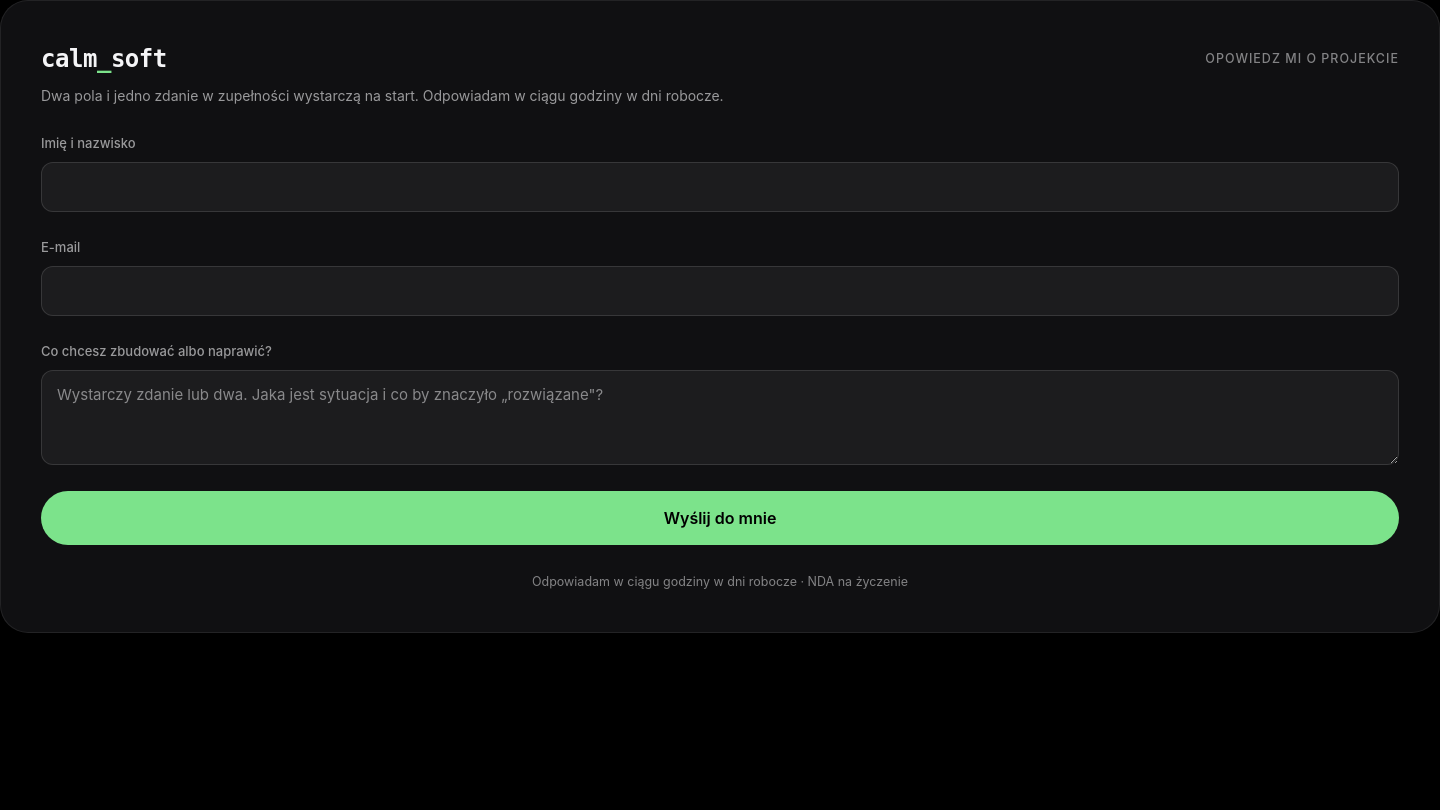
Test: ContactForm step 1 (SPEC §8, §14.2) › blocks submit on empty fields and shows per-field validation messages, focusing the first invalid field
Step 1. Click the button "Wyślij do mnie" → x=720, y=518, box [41,491,1399,545]
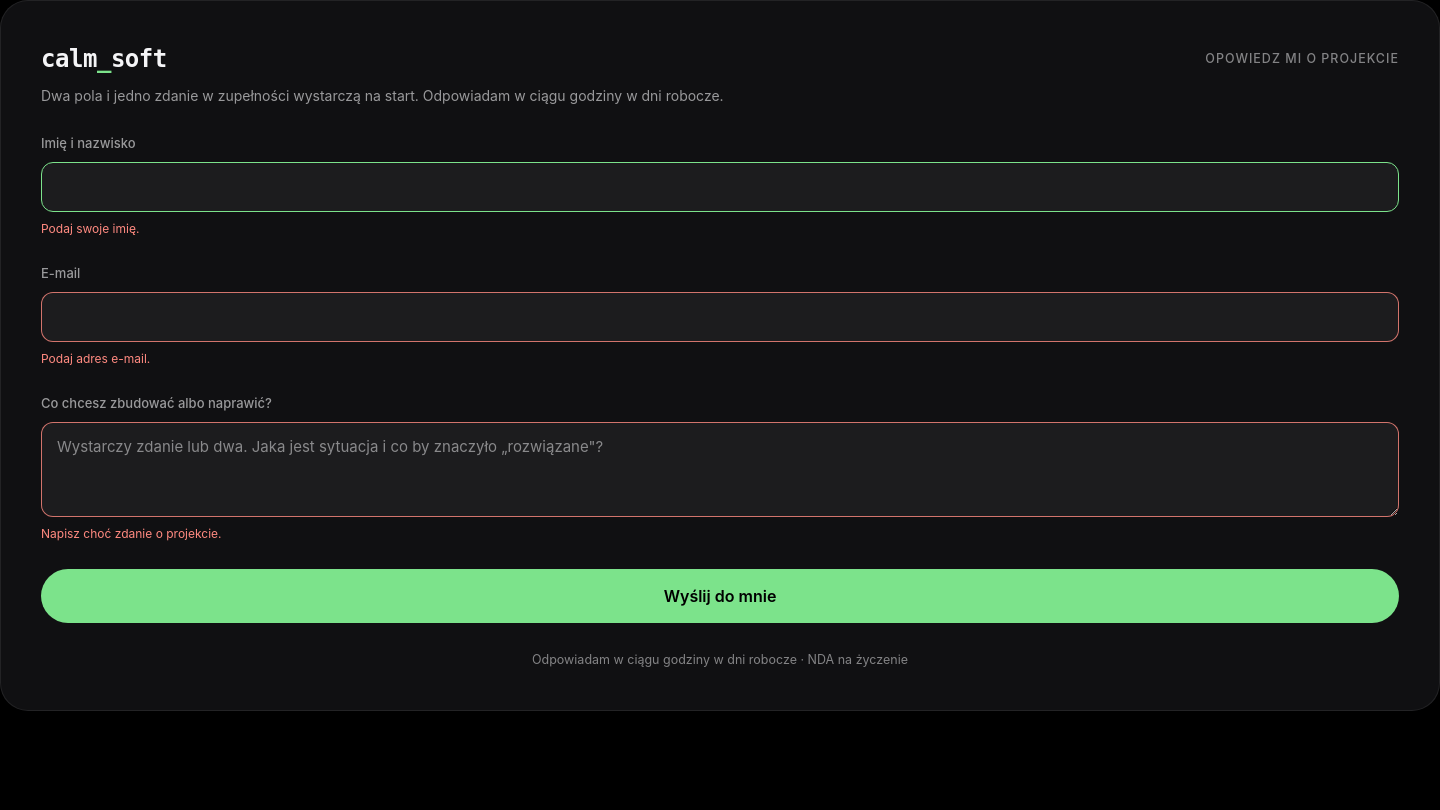
Expected: the text "Podaj swoje imię." is shown, [41,221,139,236]
Expected: the text "Podaj adres e-mail." is shown, [41,351,150,366]
Expected: the text "Napisz choć zdanie o projekcie." is shown, [41,526,222,541]
